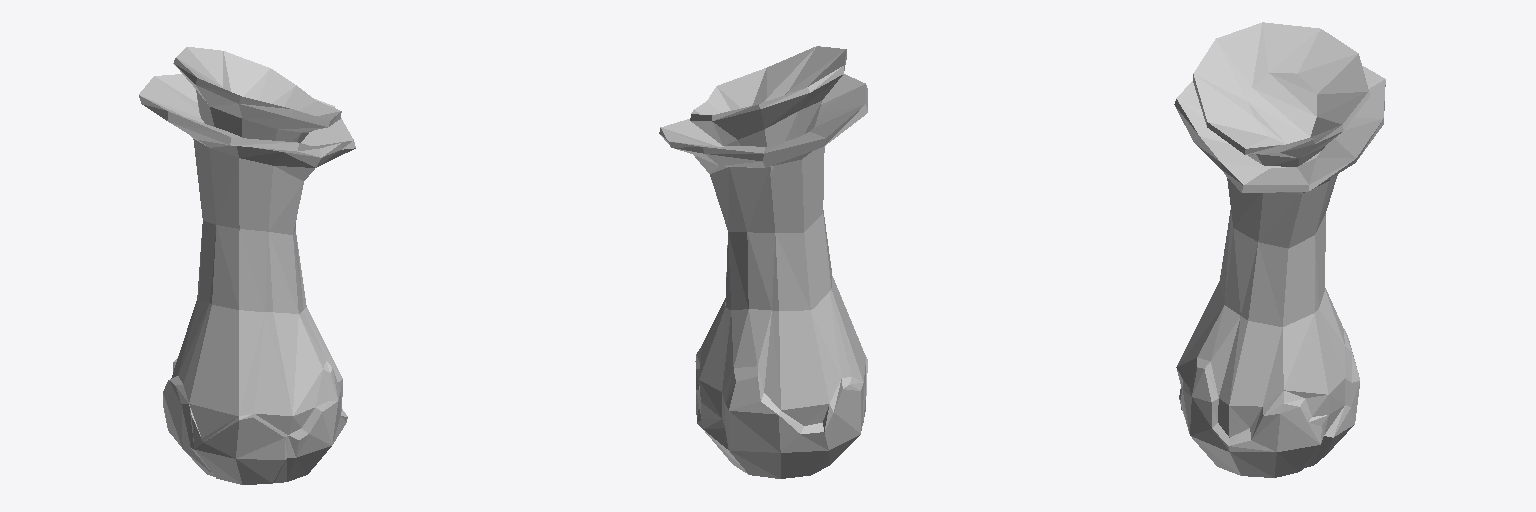
The model's file is ayd_X01_stone2.obj.
3 renders of one model, left to right at view 1: azimuth 30°, elevation 25°; view 2: azimuth 150°, elevation 25°; view 3: azimuth 270°, elevation 25°, orthographic.
Parts seen in each view (by area): view 1: giant_flower_lush; view 2: giant_flower_lush; view 3: giant_flower_lush.
Part boxes in pixels (bbox=[...]): giant_flower_lush: bbox=[139, 47, 355, 484]; giant_flower_lush: bbox=[659, 46, 867, 478]; giant_flower_lush: bbox=[1174, 22, 1385, 477].
Size of the model in its own units: 1088 by 2213 by 1057.